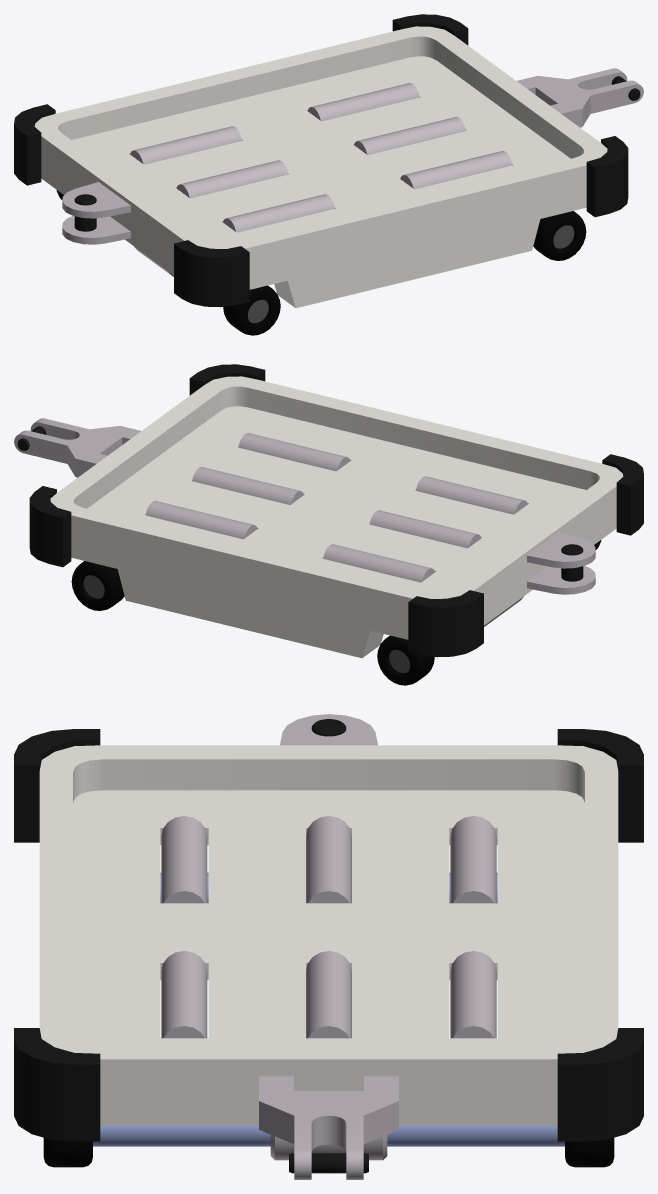
The model's file is airport-baggage-truck-2.glb.
3 renders of one model, top to bottom at view 1: azimuth 30°, elevation 25°; view 2: azimuth 150°, elevation 25°; view 3: azimuth 270°, elevation 25°, orthographic. The views are drawn at different scales.
Visible parts, largest first — view 1: 21.3.BaggageTruck_AIRPORT_0; view 2: 21.3.BaggageTruck_AIRPORT_0; view 3: 21.3.BaggageTruck_AIRPORT_0.
Boxes of the visible parts, x1=… form: 21.3.BaggageTruck_AIRPORT_0: x1=14, y1=14, x2=643, y2=335; 21.3.BaggageTruck_AIRPORT_0: x1=14, y1=364, x2=643, y2=685; 21.3.BaggageTruck_AIRPORT_0: x1=14, y1=714, x2=643, y2=1179.
Bounding box in the file's own units: 7.07 × 1.15 × 4.36.
Materials: 1 (1 with a texture image).
